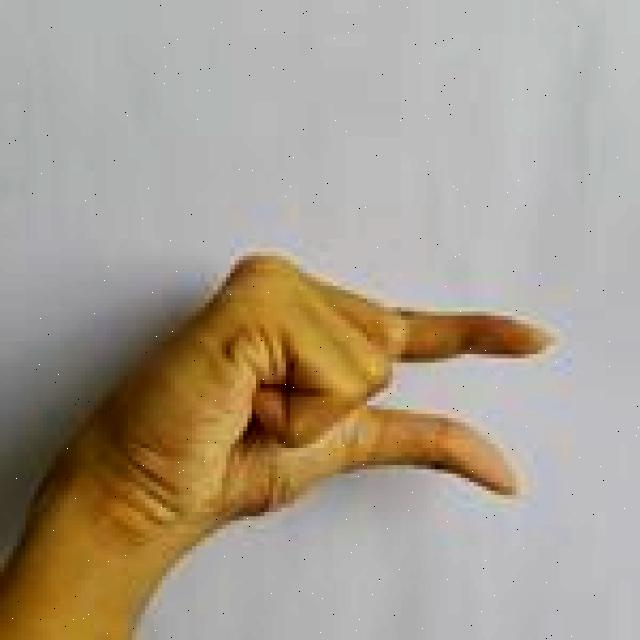G: (0, 246, 549, 640)
